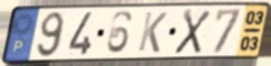4: (65, 11, 95, 58)
6: (105, 10, 135, 57)
7: (213, 7, 244, 55)
9: (35, 10, 68, 59)
K: (136, 11, 170, 55)
X: (172, 8, 213, 56)
